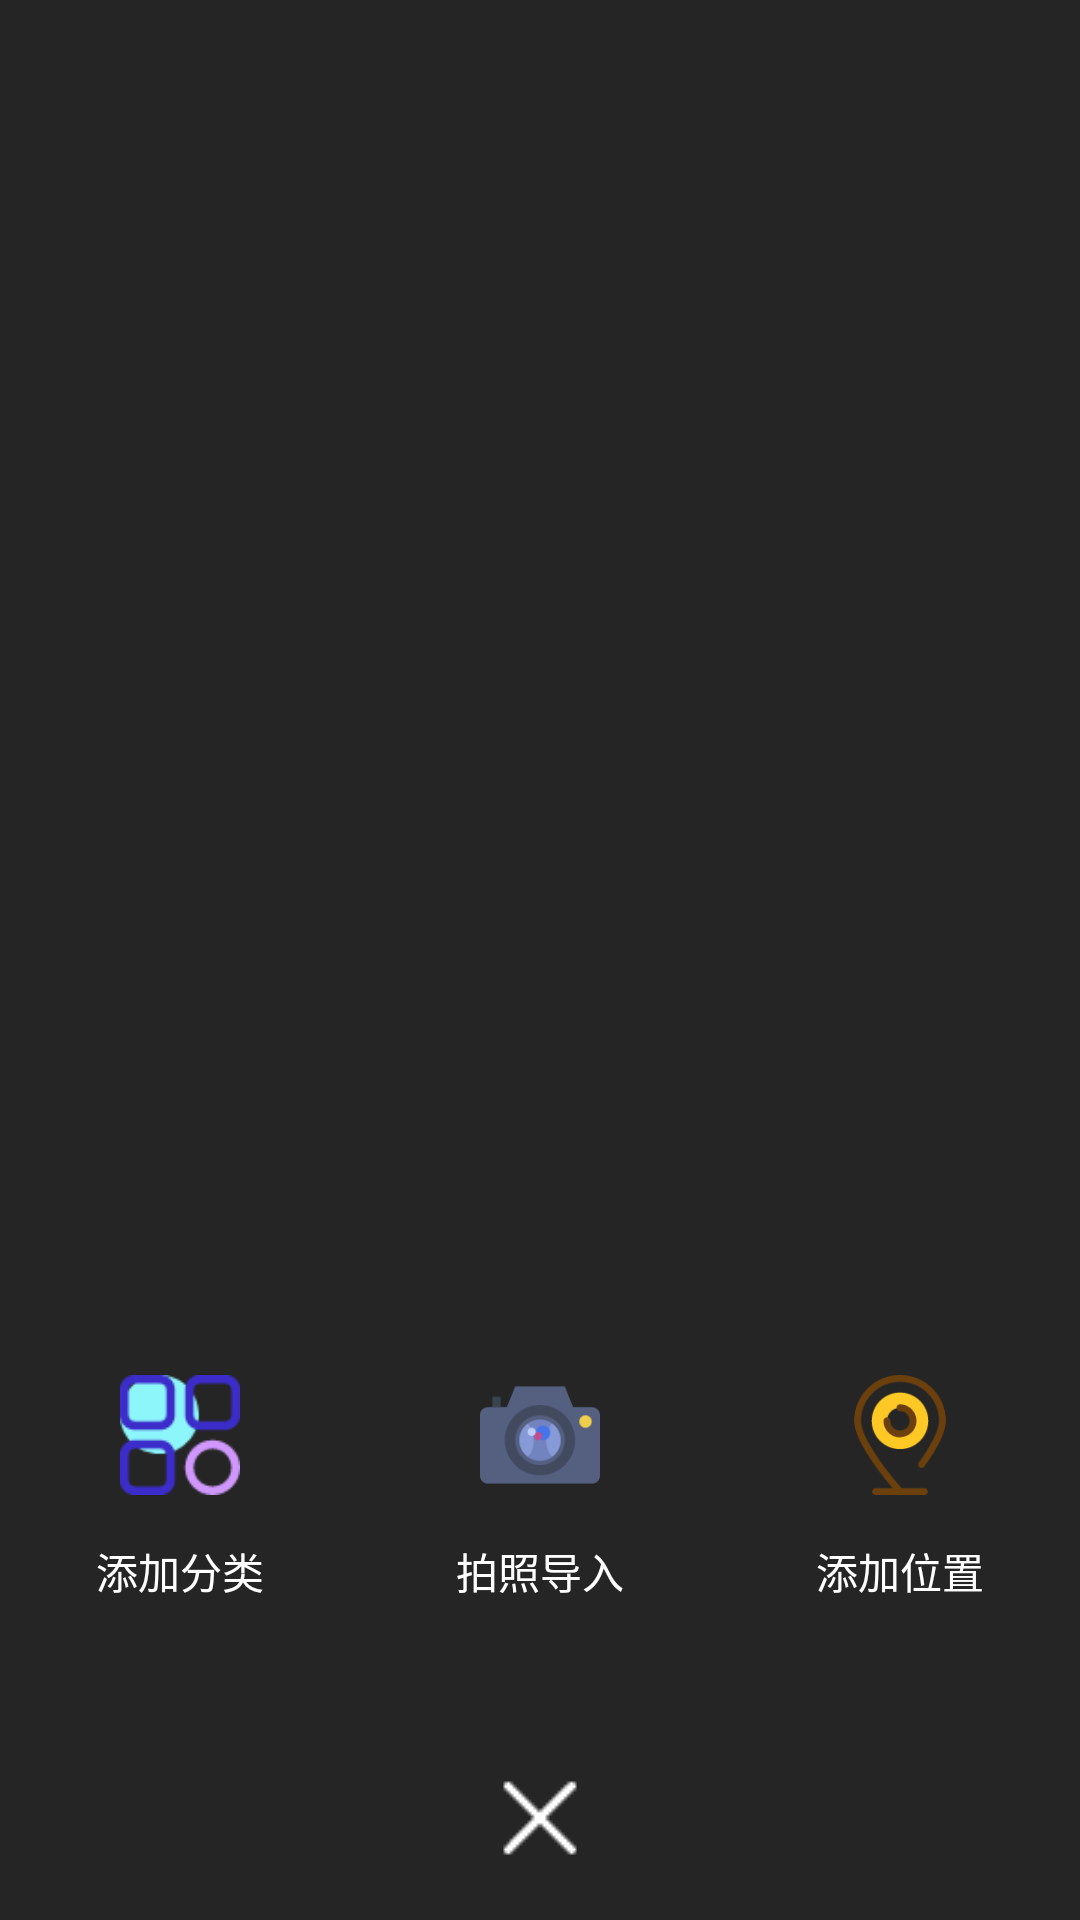

Named icons in this screenshot (1080 × 1920) and their bounding boxes, (x1, y1, x2, y2):
cancel: (503, 1781, 577, 1855)
classify: (120, 1375, 240, 1495)
location: (854, 1375, 946, 1495)
photo: (480, 1386, 600, 1484)
